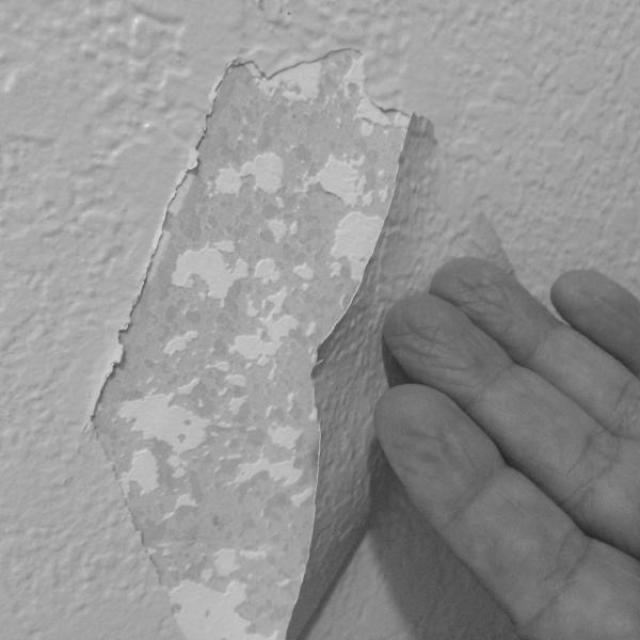peeling paint: (0, 1, 572, 640)
